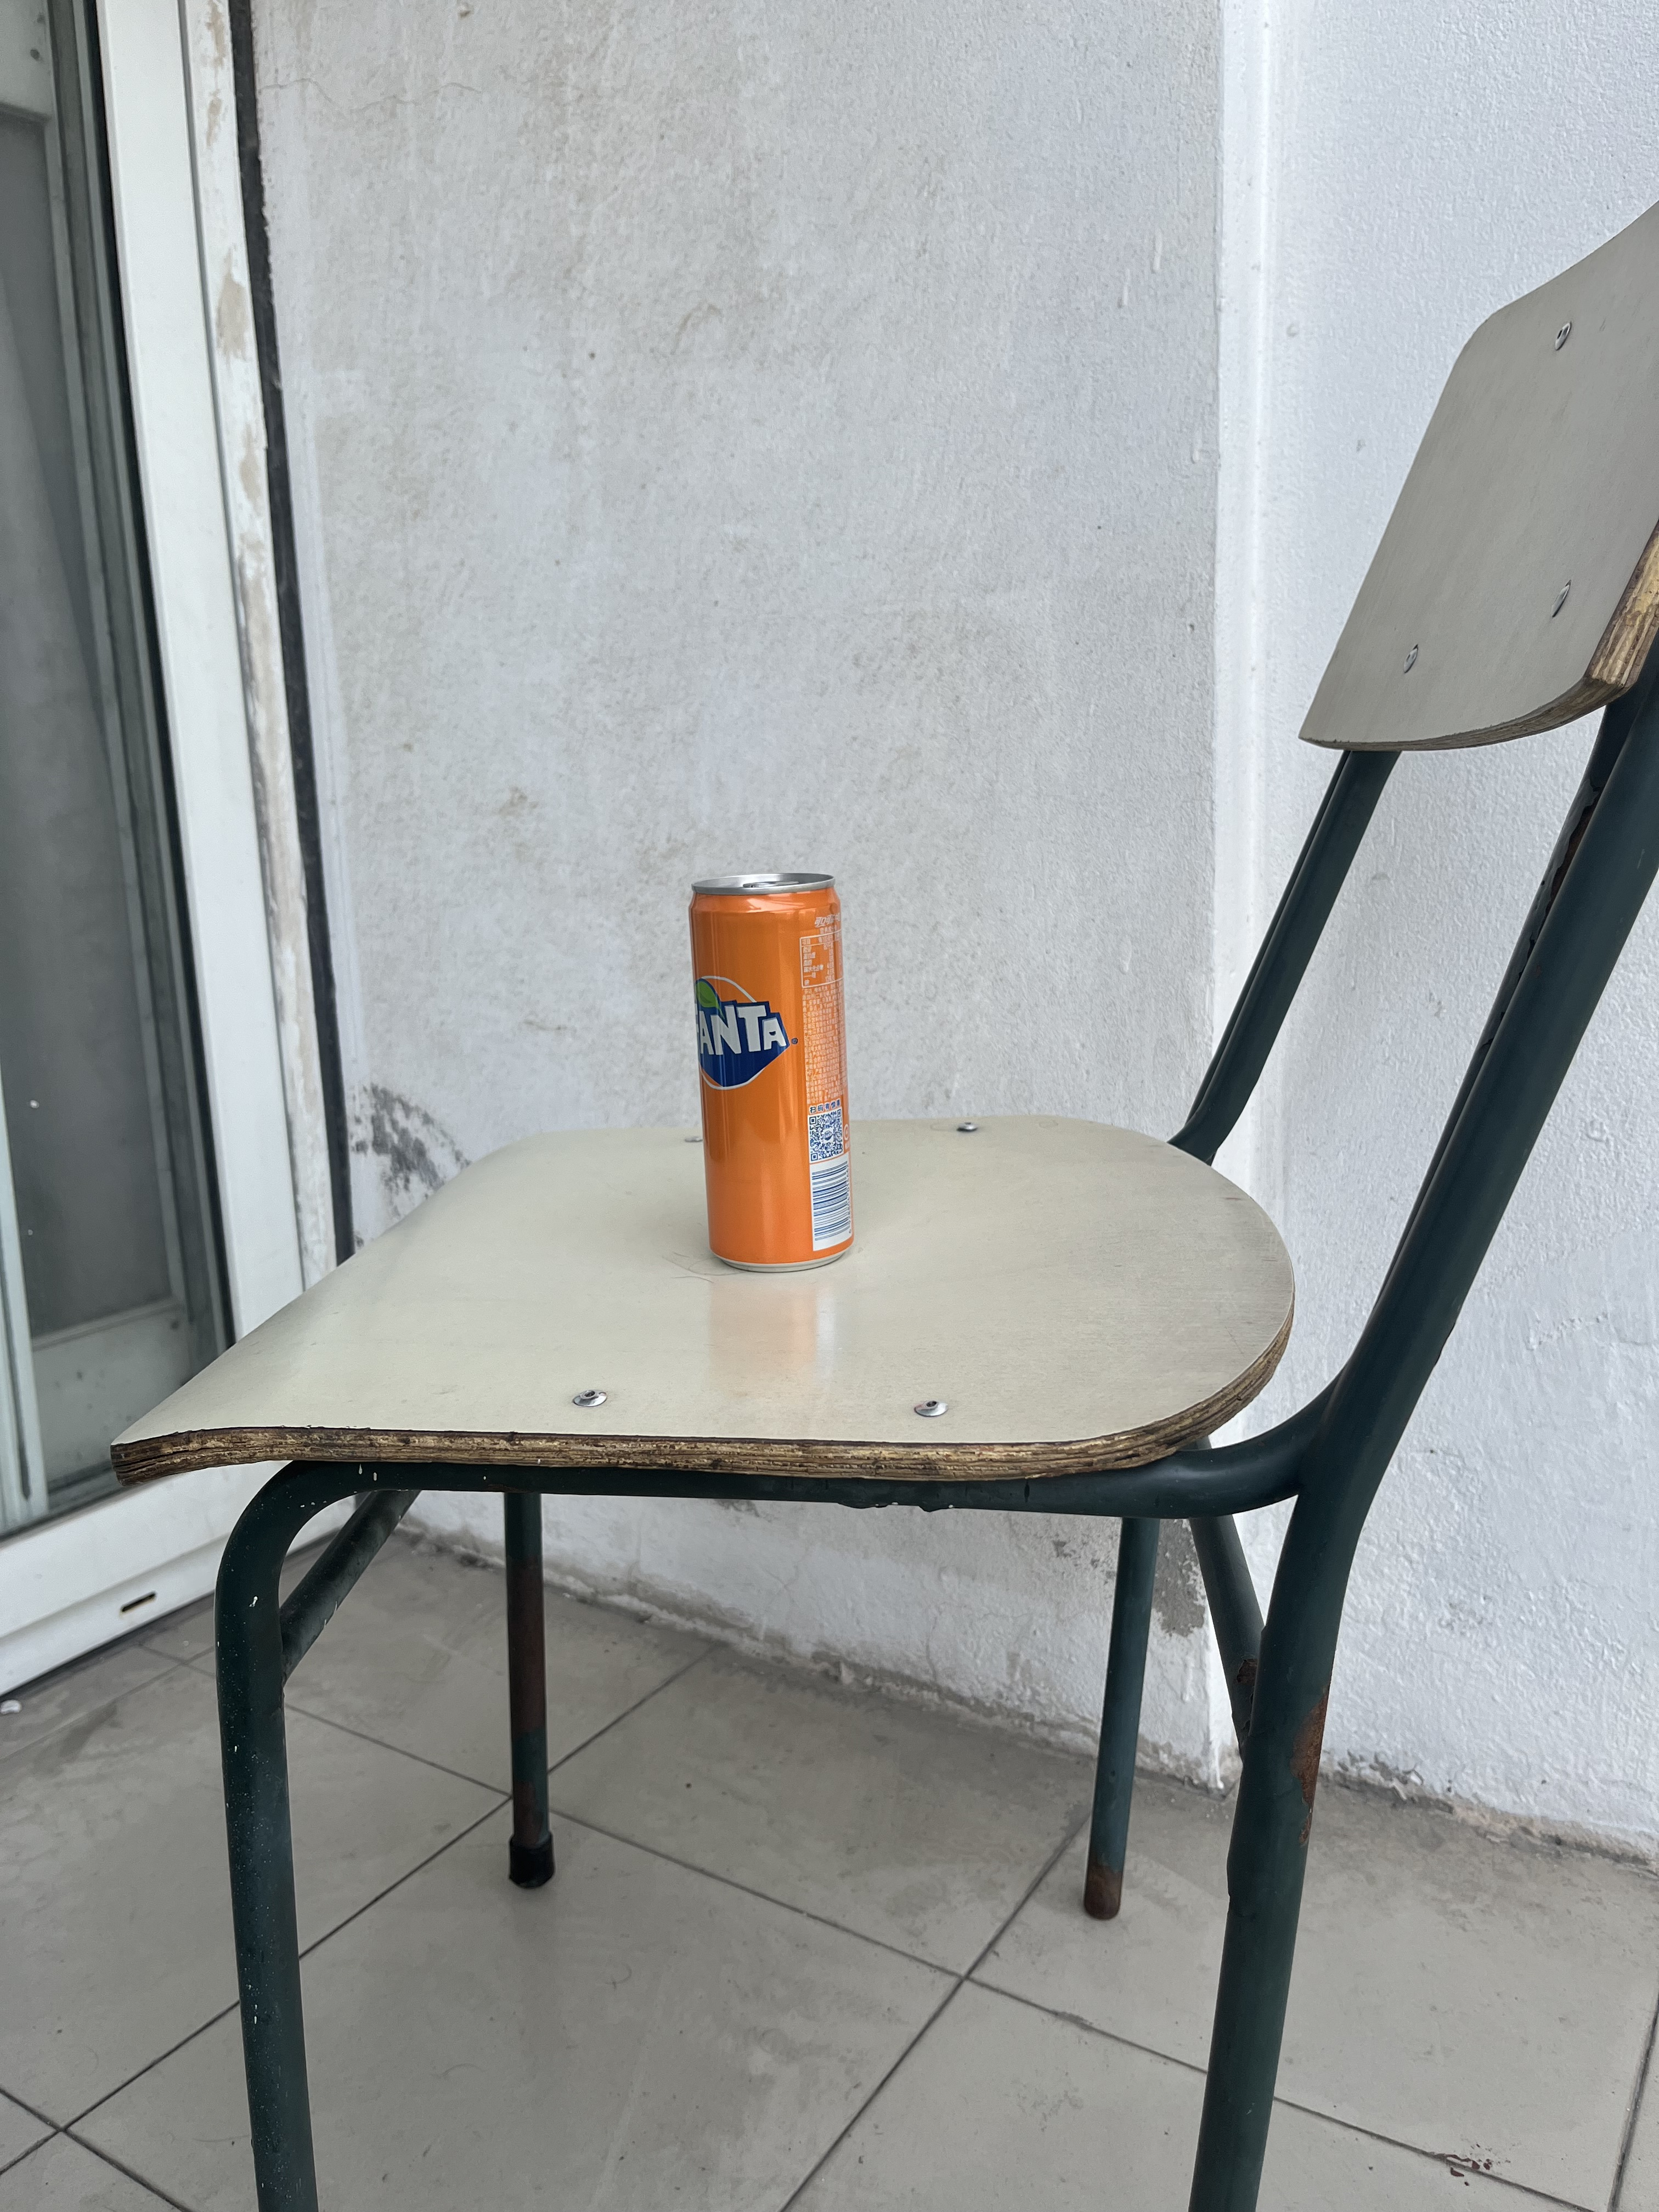FANTA_Orange: (692, 871, 856, 1277)
